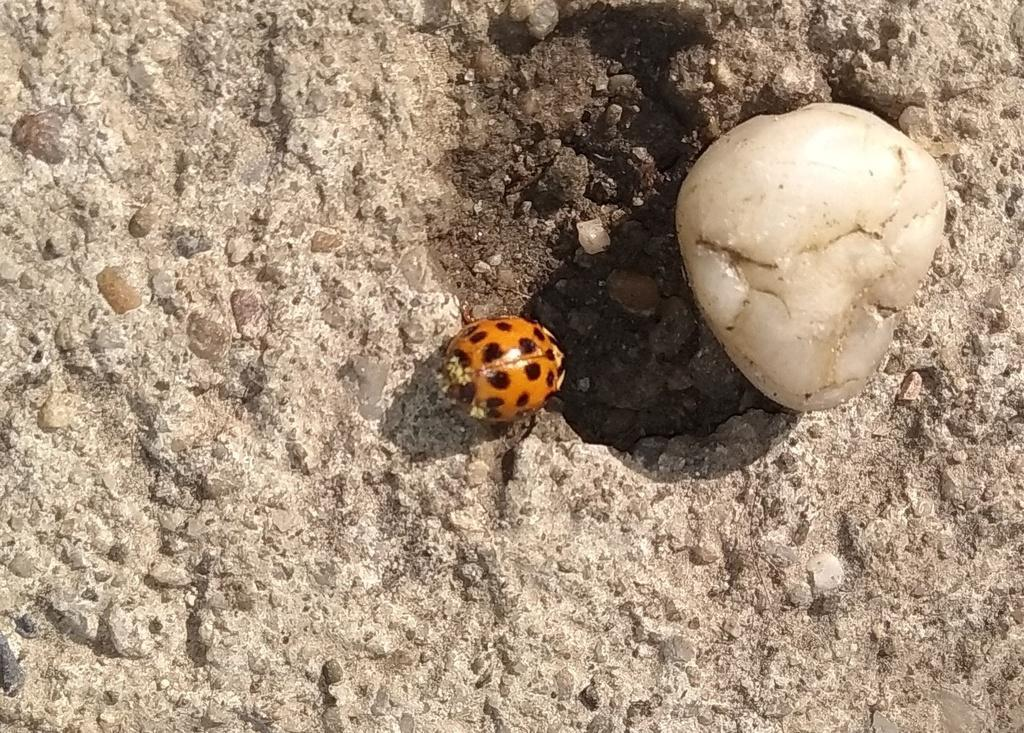ladybug: (437, 313, 569, 429)
